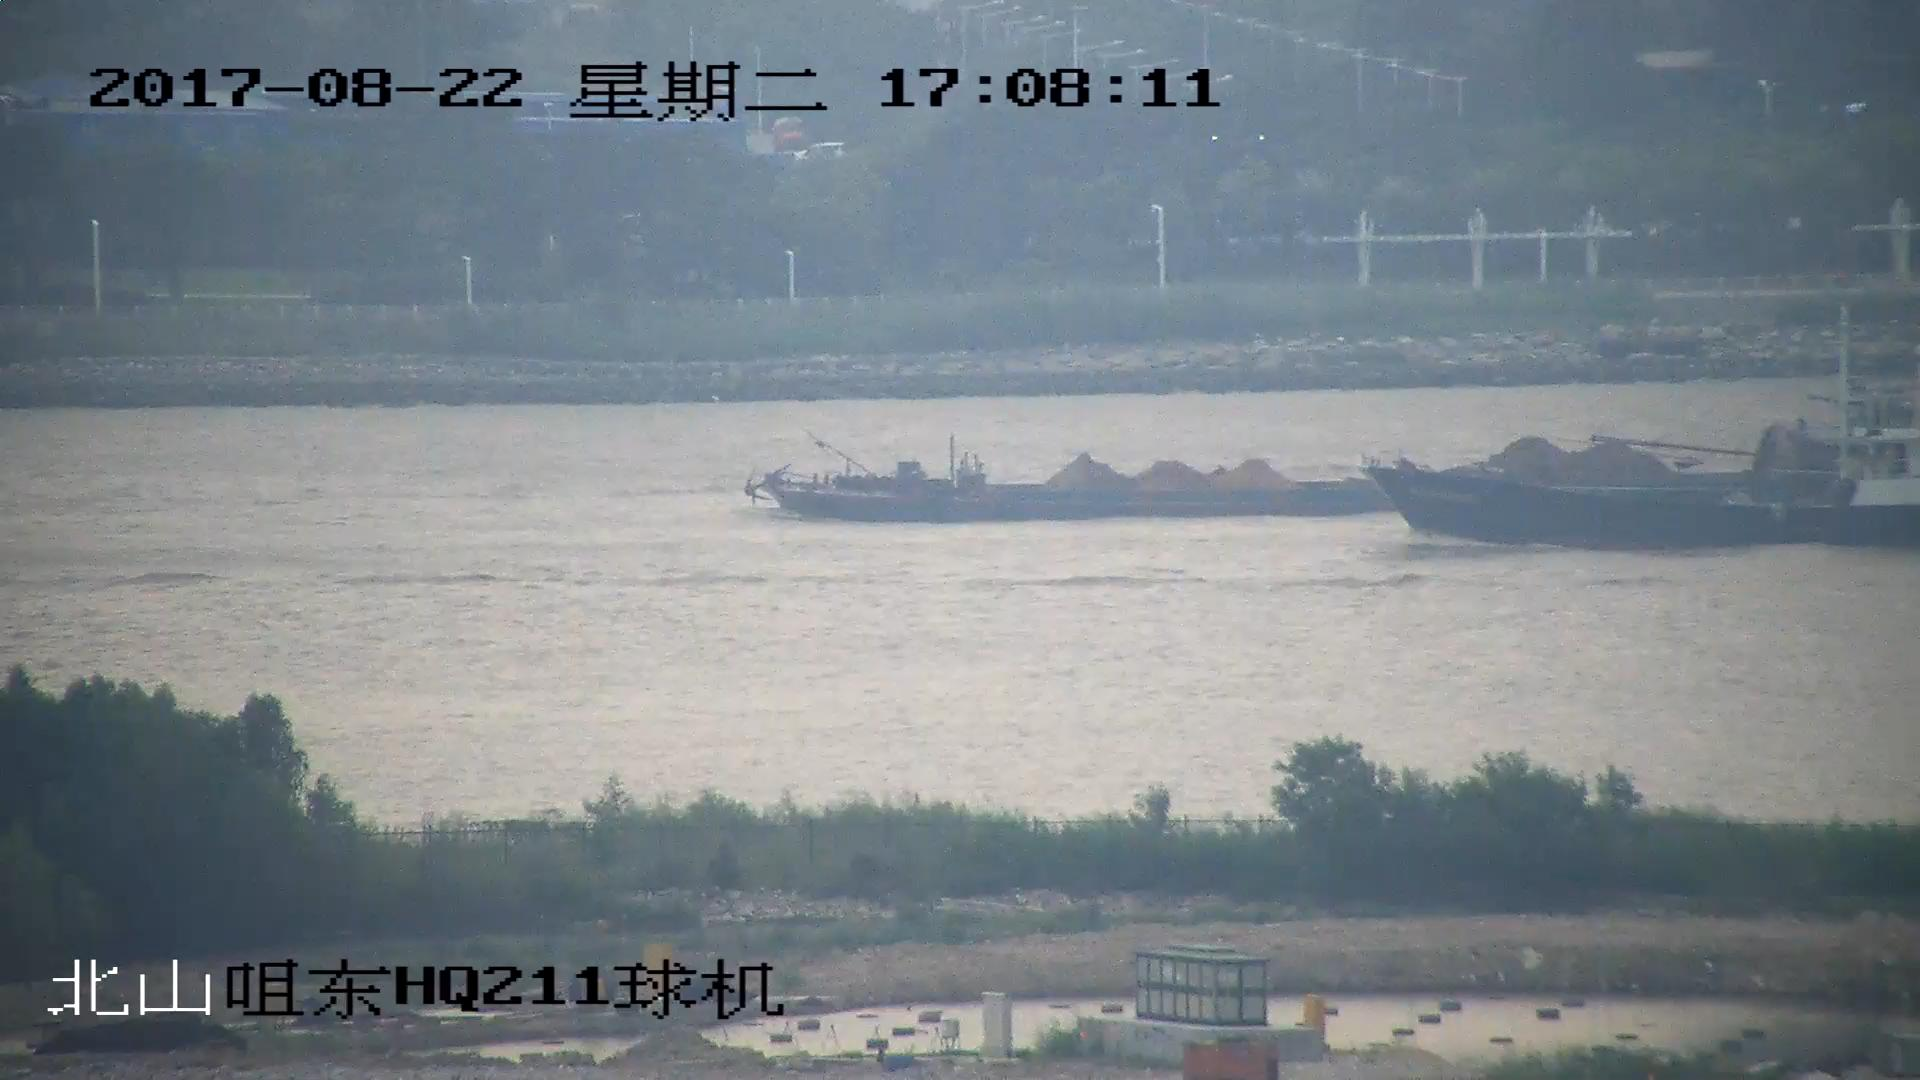fishing boat: (1365, 414, 1920, 542)
ore carrier: (746, 388, 1920, 527)
